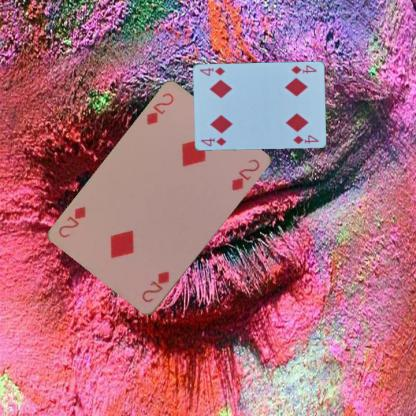2d: (142, 90, 176, 127), (138, 269, 172, 304)
4d: (288, 62, 318, 76), (198, 135, 227, 148)
